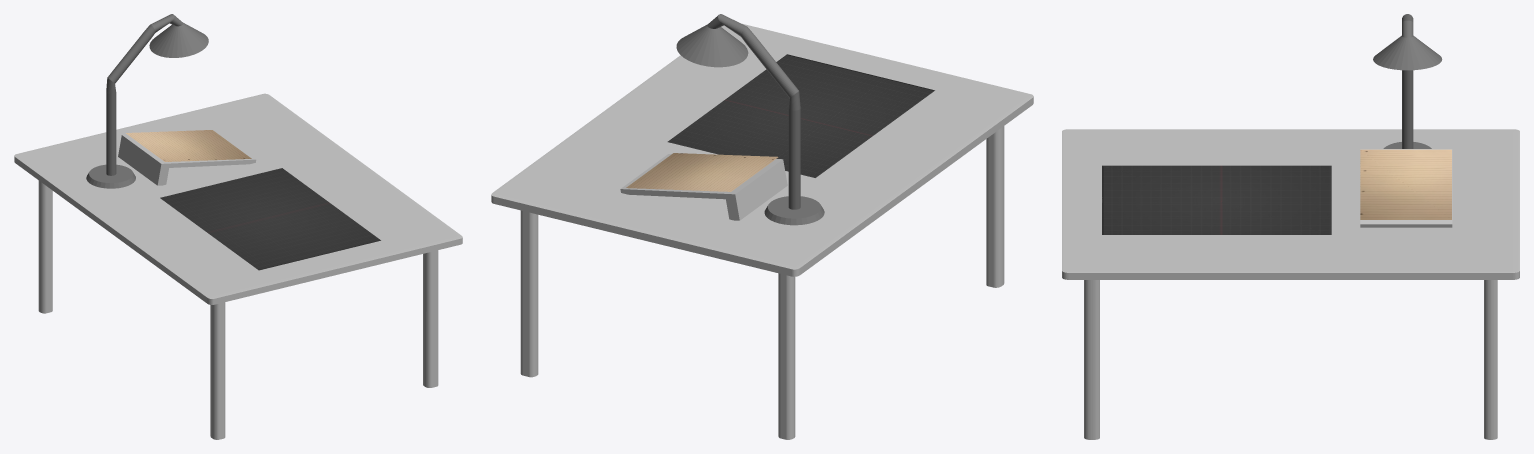
File: researchtable.fbx
3 renders of one model, left to right at view 1: azimuth 30°, elevation 25°; view 2: azimuth 150°, elevation 25°; view 3: azimuth 270°, elevation 25°, orthographic. The views are drawn at different scales.
Parts seen in each view (by area): view 1: Cube, Plane, Cylinder, Plane.001, Cube.001; view 2: Cube, Plane, Cylinder, Plane.001, Cube.001; view 3: Cube, Plane, Plane.001, Cylinder, Cube.001.
Boxes of the visible parts, x1=… form: Cube: x1=14, y1=93, x2=462, y2=439; Plane: x1=160, y1=168, x2=380, y2=270; Cylinder: x1=86, y1=14, x2=208, y2=188; Plane.001: x1=126, y1=130, x2=251, y2=161; Cube.001: x1=118, y1=130, x2=256, y2=185; Cube: x1=491, y1=23, x2=1033, y2=439; Plane: x1=667, y1=54, x2=934, y2=177; Cylinder: x1=676, y1=14, x2=824, y2=225; Plane.001: x1=626, y1=153, x2=778, y2=191; Cube.001: x1=620, y1=154, x2=787, y2=220; Cube: x1=1062, y1=129, x2=1519, y2=439; Plane: x1=1102, y1=165, x2=1331, y2=234; Plane.001: x1=1360, y1=149, x2=1451, y2=219; Cylinder: x1=1373, y1=14, x2=1442, y2=148; Cube.001: x1=1360, y1=149, x2=1452, y2=227.
Bounding box in the file's own units: 7.41 × 8.36 × 9.98.
